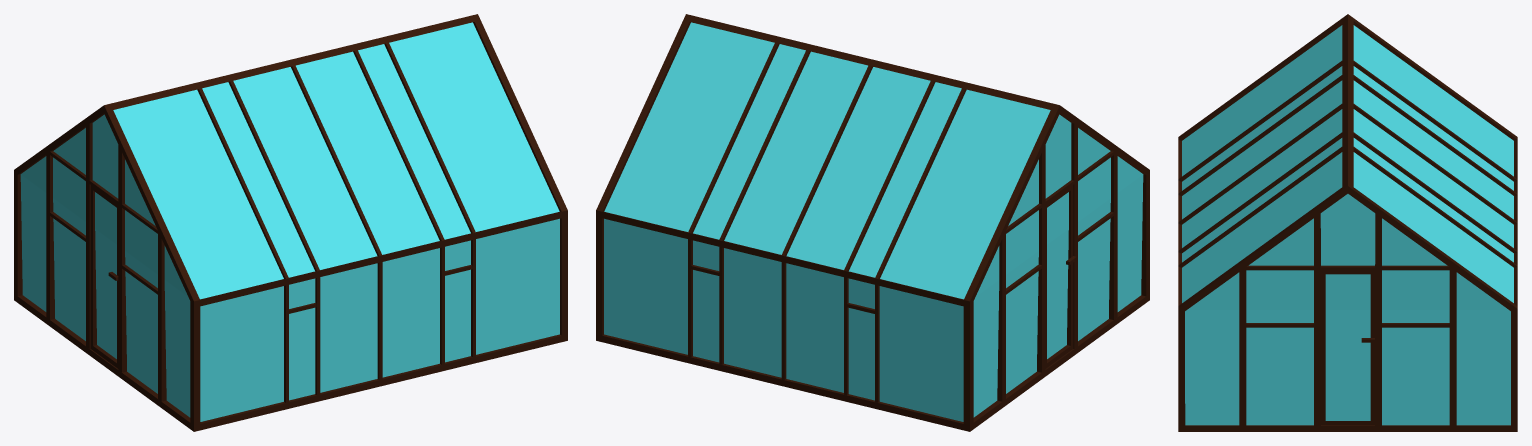
File: Greenhouse.fbx
3 renders of one model, left to right at view 1: azimuth 30°, elevation 25°; view 2: azimuth 150°, elevation 25°; view 3: azimuth 270°, elevation 25°, orthographic. The views are drawn at different scales.
Visible parts, largest first — view 1: Glasses, Green House; view 2: Glasses, Green House; view 3: Glasses, Green House.
Part boxes in pixels (x1,y1,x2,y2): Glasses: (20, 22, 559, 421); Green House: (14, 14, 567, 431); Glasses: (604, 22, 1143, 421); Green House: (596, 14, 1149, 431); Glasses: (1182, 25, 1513, 425); Green House: (1178, 14, 1517, 431).
Size of the model in its own units: 1217 by 800 by 1000.
